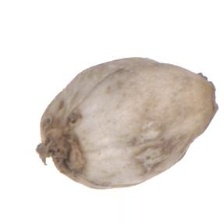L1: (37, 125, 71, 178), (195, 71, 219, 119)
L2: (37, 57, 219, 189)
